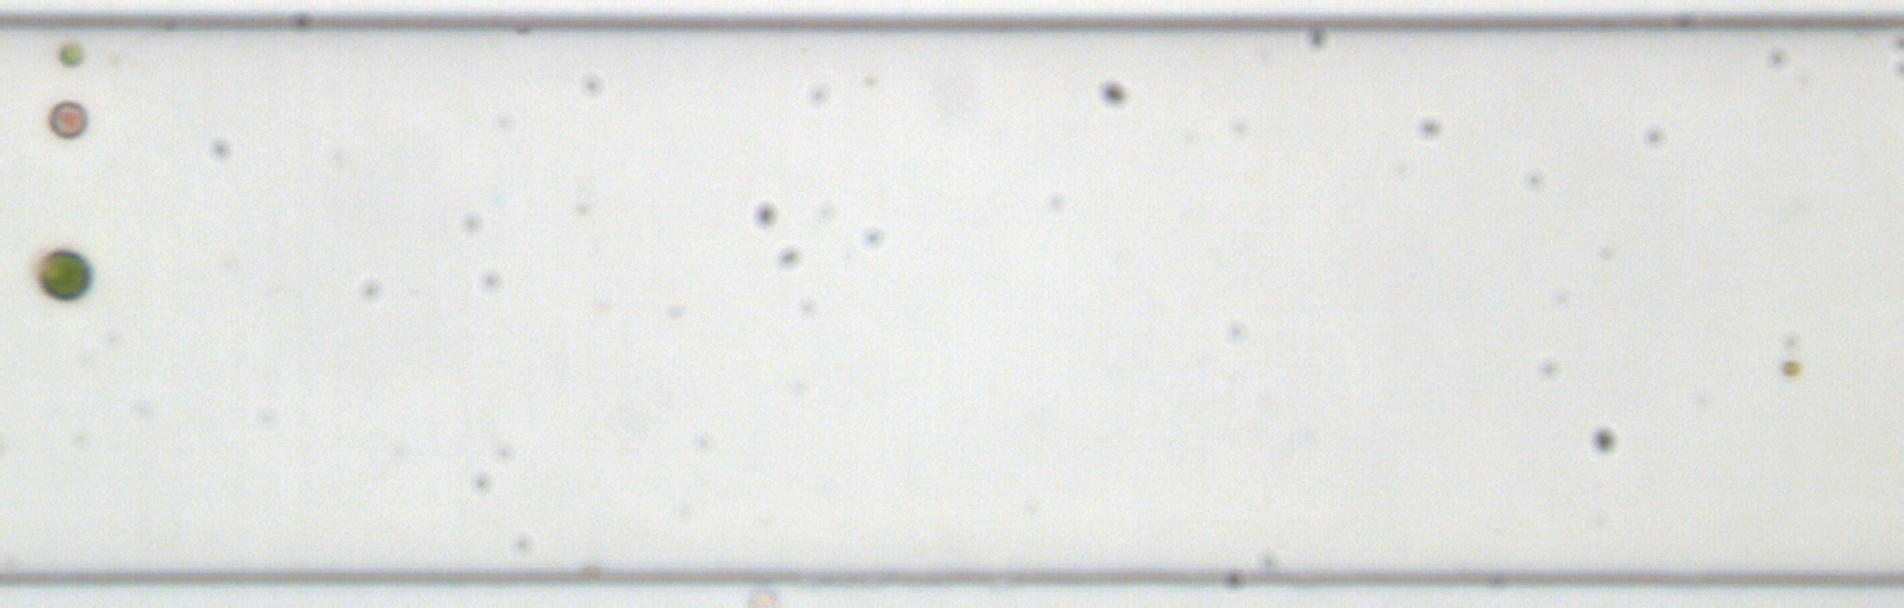Chlorella: (58, 40, 83, 66), (1779, 359, 1800, 379)
Platymonas: (35, 246, 92, 301)
Porphyridium: (46, 97, 89, 140)
